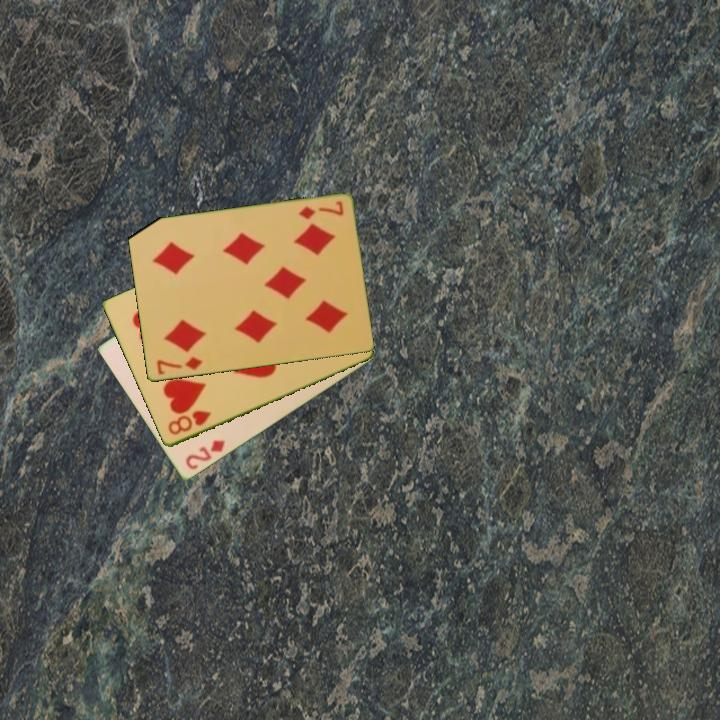2d: (182, 437, 228, 473)
7d: (294, 198, 346, 223), (153, 354, 205, 378)
8h: (164, 407, 214, 438)
